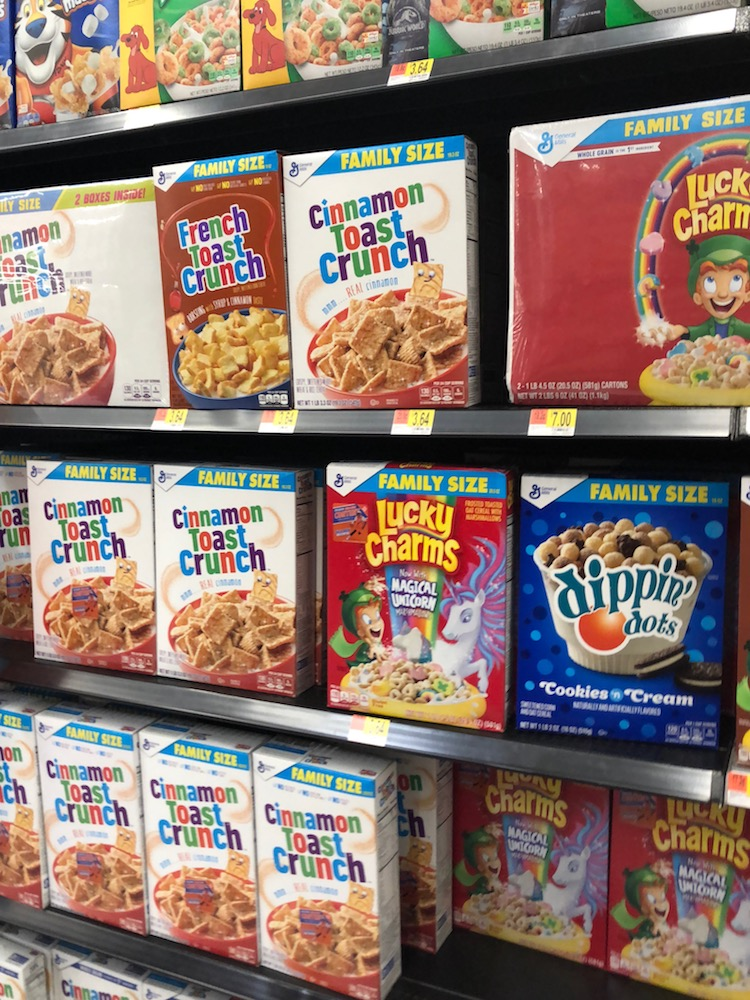Dippin Dots Cookies & Cream -568929378: (513, 473, 720, 749)
